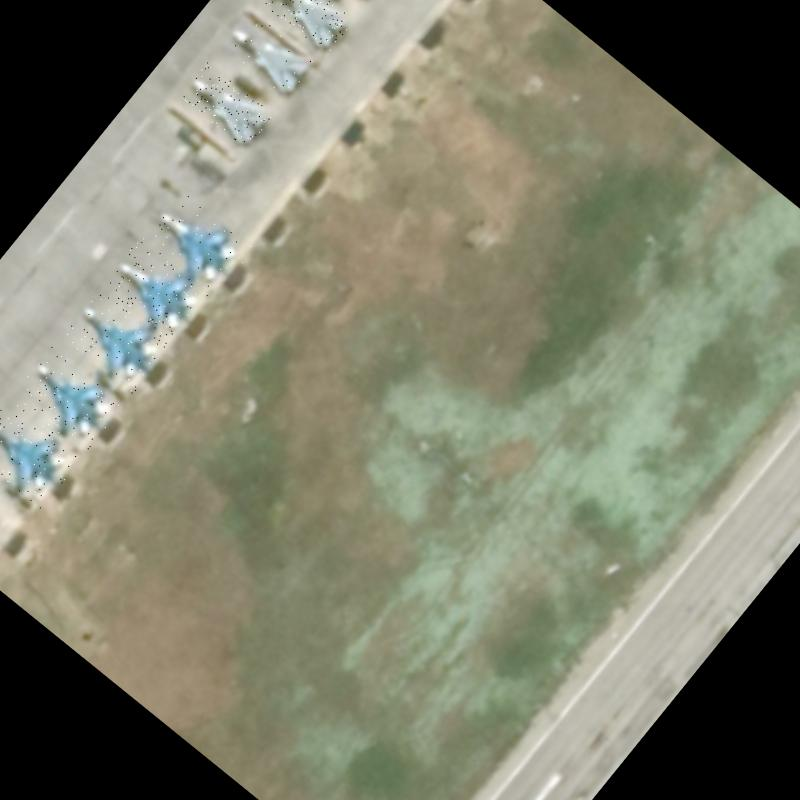A19: (139, 188, 254, 300), (11, 344, 126, 454), (61, 288, 174, 396), (101, 238, 209, 342), (0, 398, 82, 509)
A20: (221, 10, 317, 100), (179, 61, 274, 150), (257, 0, 354, 55)
